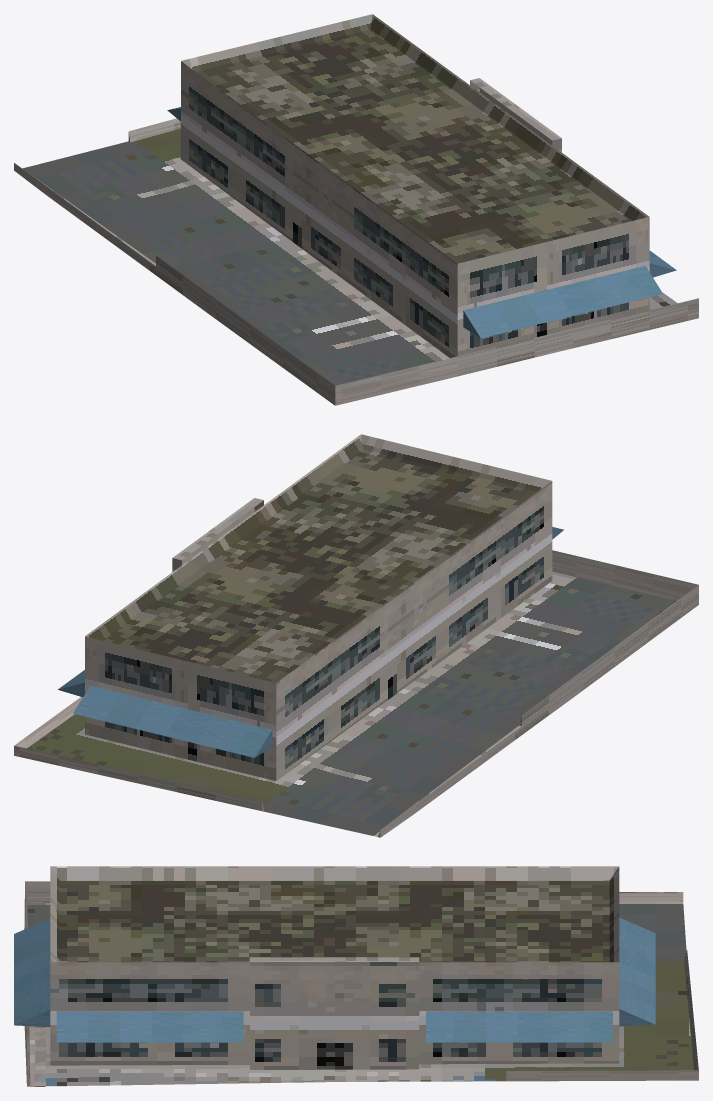
Rendered from sw_office1_lod.obj.
3 renders of one model, top to bottom at view 1: azimuth 30°, elevation 25°; view 2: azimuth 150°, elevation 25°; view 3: azimuth 270°, elevation 25°, orthographic. The views are drawn at different scales.
Visible parts, largest first — view 1: sw_office1_LOD; view 2: sw_office1_LOD; view 3: sw_office1_LOD.
Part boxes in pixels (x1,y1,x2,y2): sw_office1_LOD: (14, 14, 698, 405); sw_office1_LOD: (14, 434, 698, 837); sw_office1_LOD: (14, 866, 698, 1086).
Bounding box in the file's own units: 38.11 × 10.7 × 60.19.
2 materials, 2 textured.
